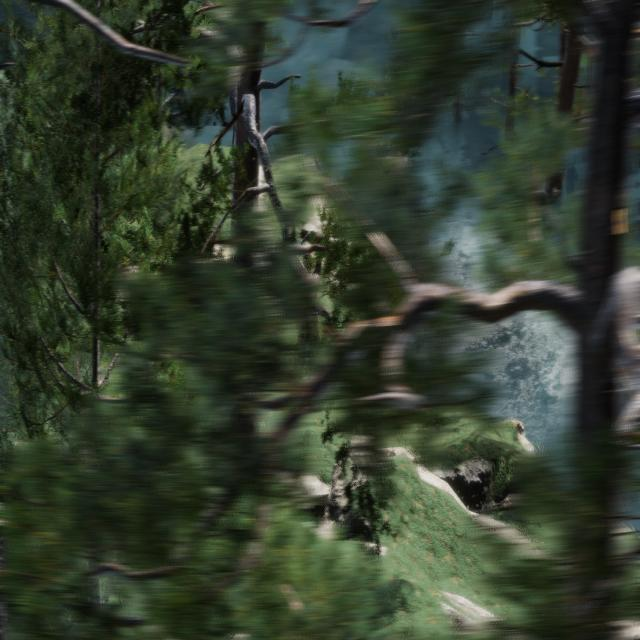Human: (301, 248, 334, 353)
